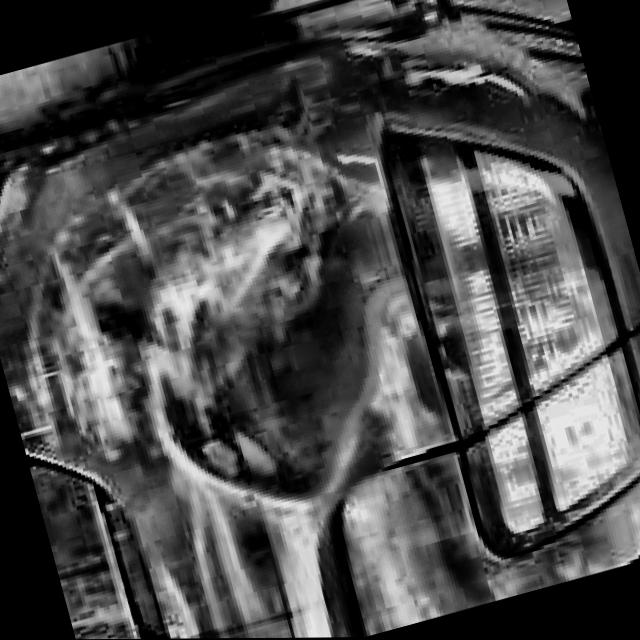bumper_dent: (114, 133, 420, 525)
